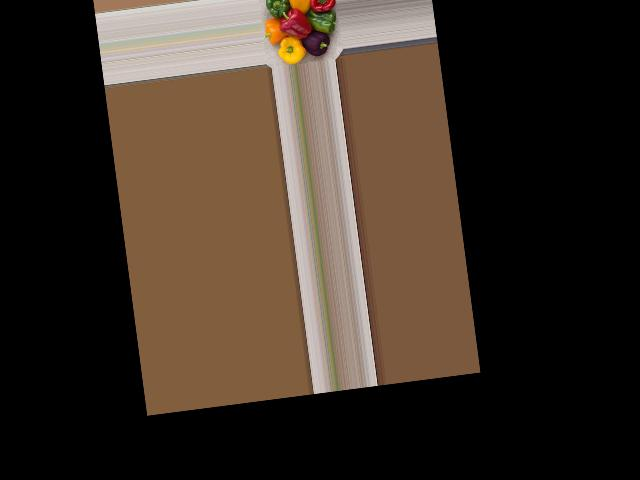bell_pepper: (299, 23, 338, 57)
